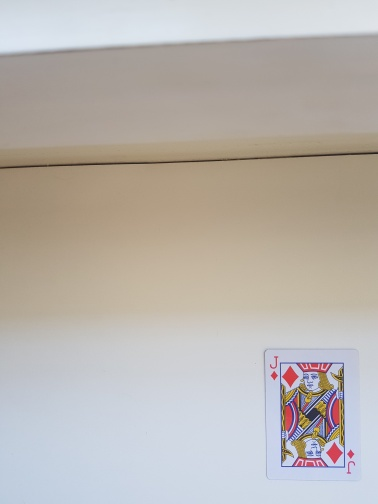jack: (261, 348, 362, 482)
